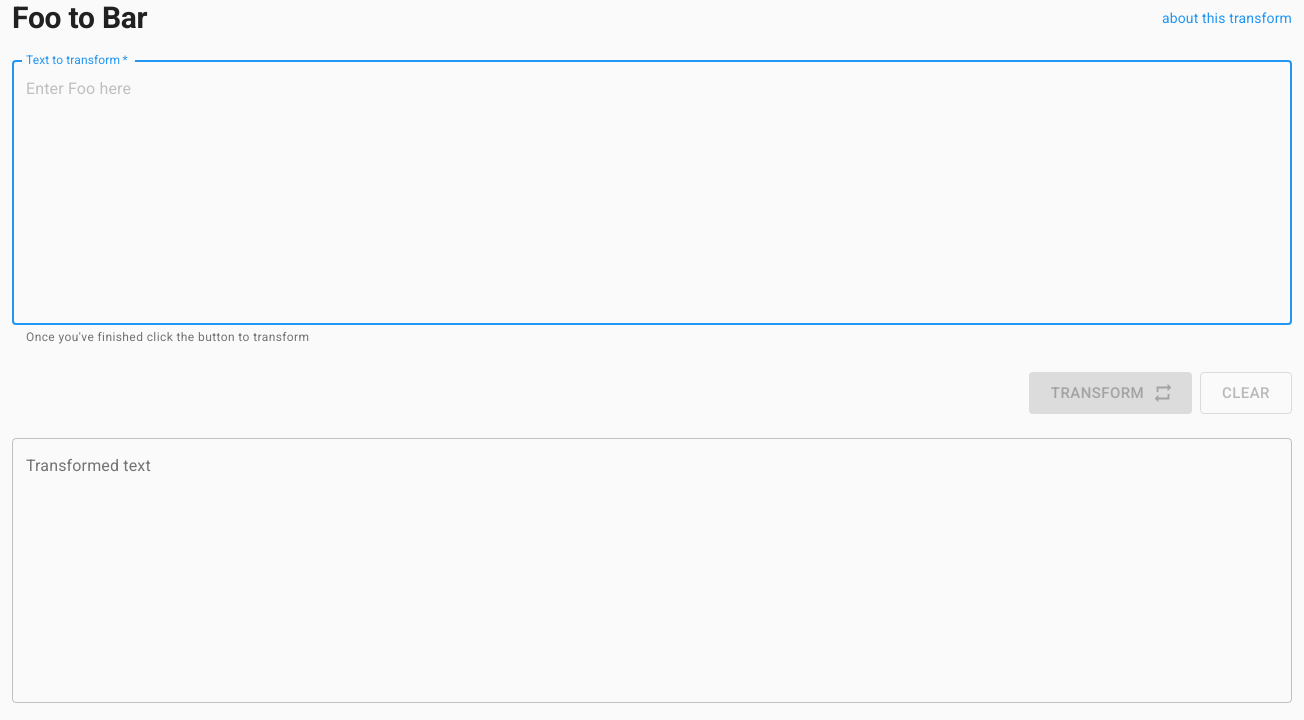
it: Transform › after the user has entered text in the input box › when the transform will fail › when the transform button is clicked › after the transform fails with {} › when the clear button is clicked › renders the copy-to-clipboard button disabled
In the text box labelled "Text to transform *": (652, 192) [26,78,1278,306], type "stuff"
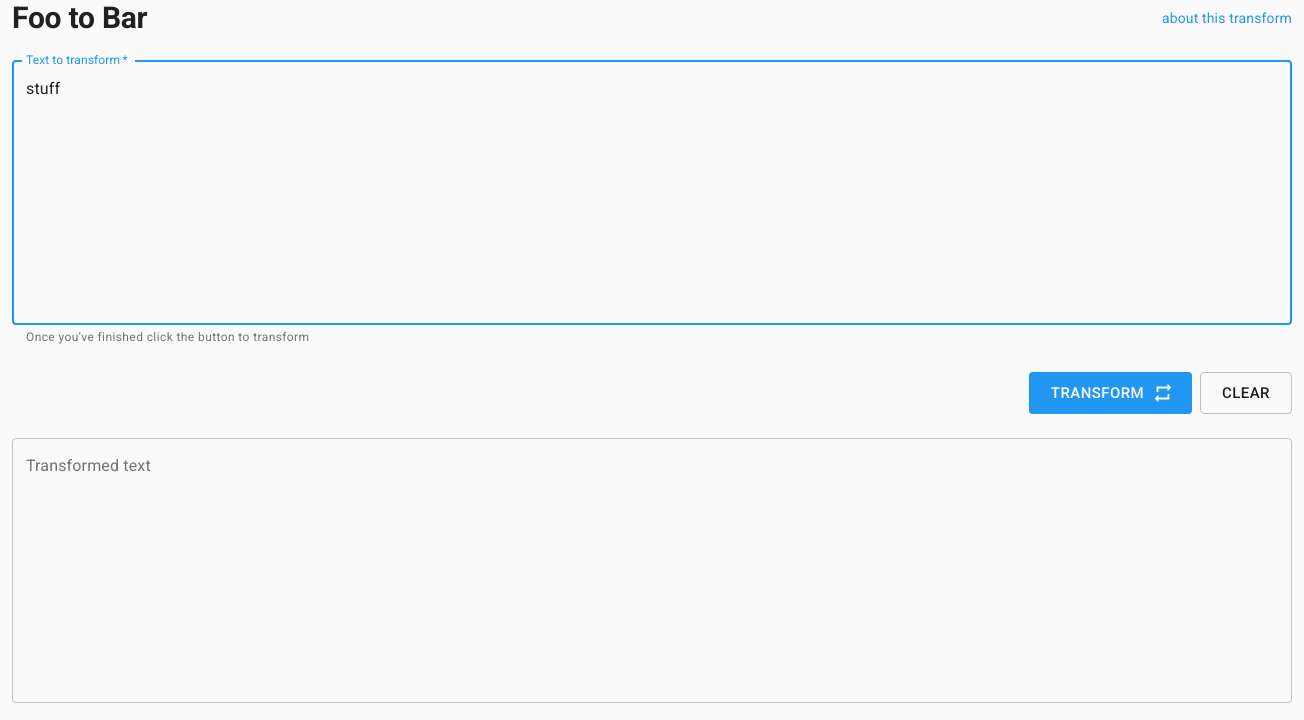
Click the button "Transform": (1110, 393) [1029,372,1192,414]
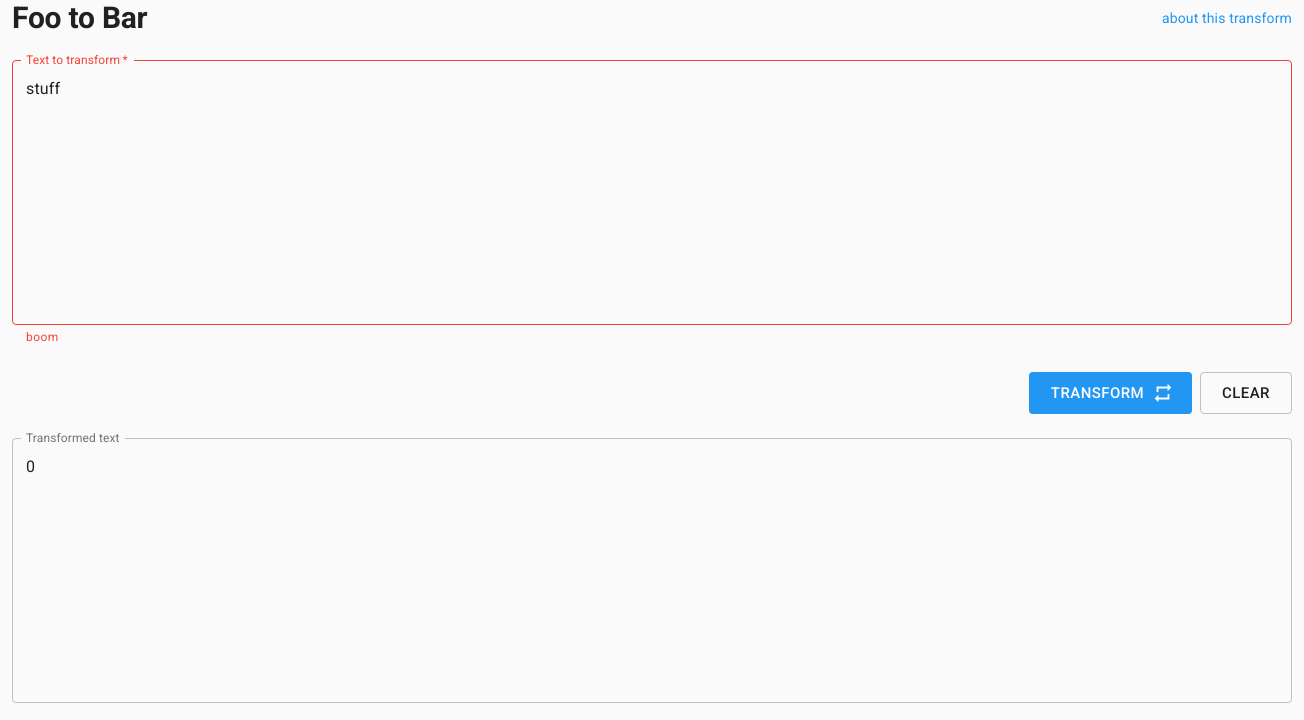
Click the button "Clear": (1246, 393) [1200,372,1292,414]
(page scrolled)
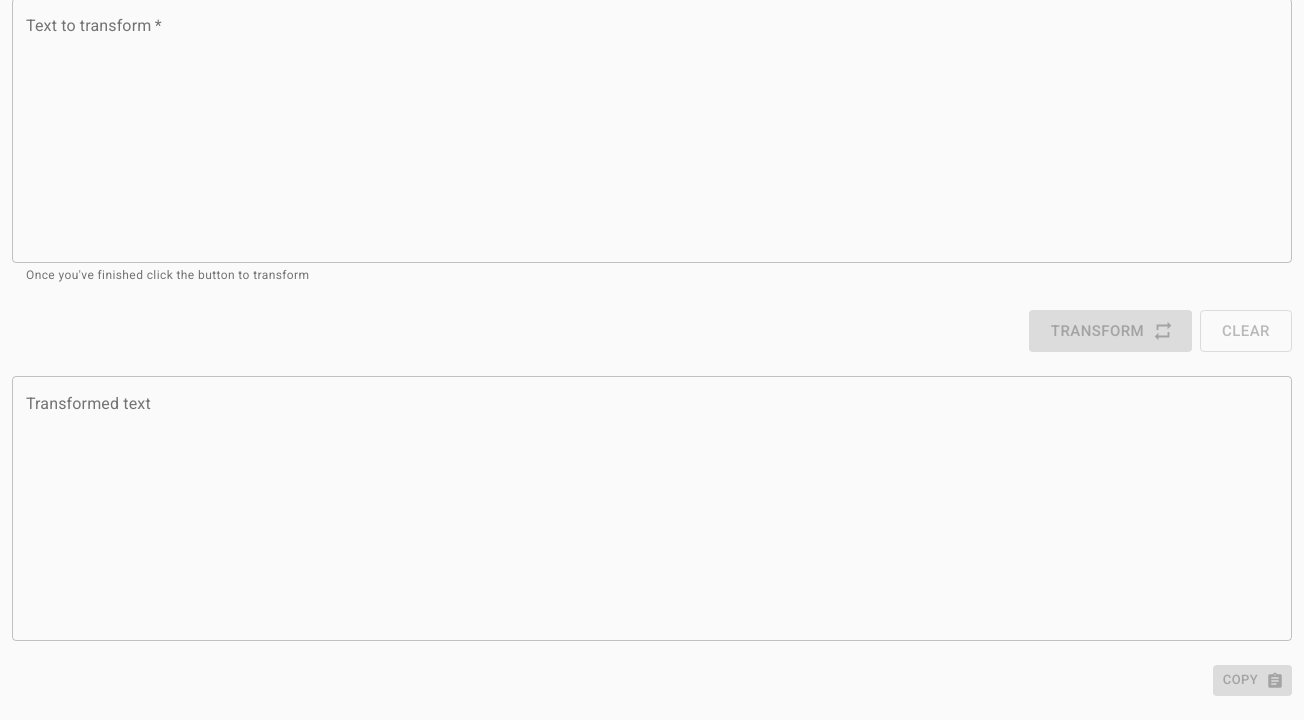
expect the button "Copy" is disabled: met, box [1213,665,1292,696]
